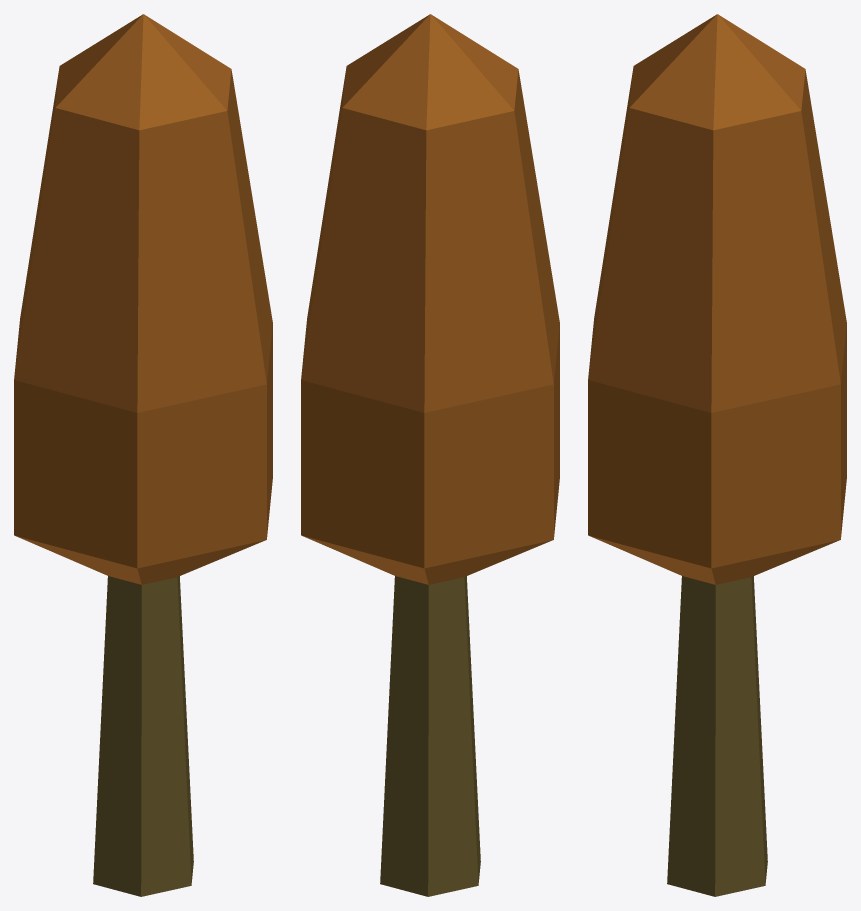
The model's file is Tree_Generic_Autumn_01.fbx.
The picture shows the model from 3 angles, left to right: view 1: azimuth 30°, elevation 25°; view 2: azimuth 150°, elevation 25°; view 3: azimuth 270°, elevation 25°; orthographic projection.
Visible parts, largest first — view 1: Model; view 2: Model; view 3: Model.
Part boxes in pixels (left/top/right/bottom): Model: left=14, top=14, right=272, bottom=896; Model: left=301, top=14, right=559, bottom=896; Model: left=588, top=14, right=846, bottom=896.
Bounding box in the file's own units: 441 × 1431 × 391.
